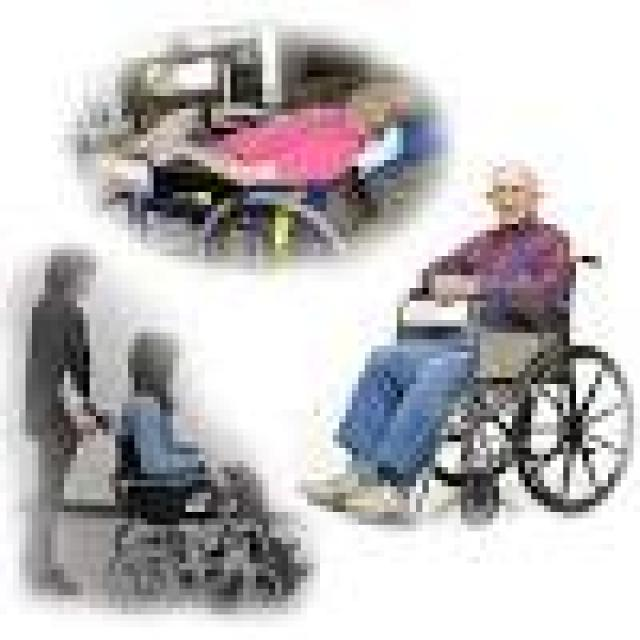wheelchairs: (364, 237, 634, 512), (51, 390, 320, 602)
